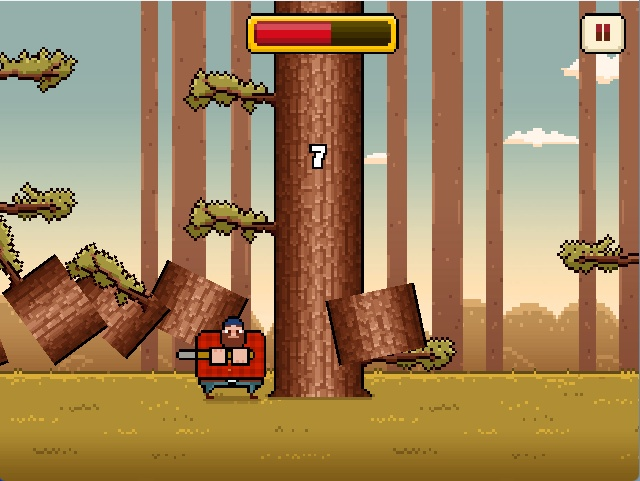left_obs: (180, 66, 281, 121), (181, 193, 281, 247)
timberman: (174, 308, 275, 414)
